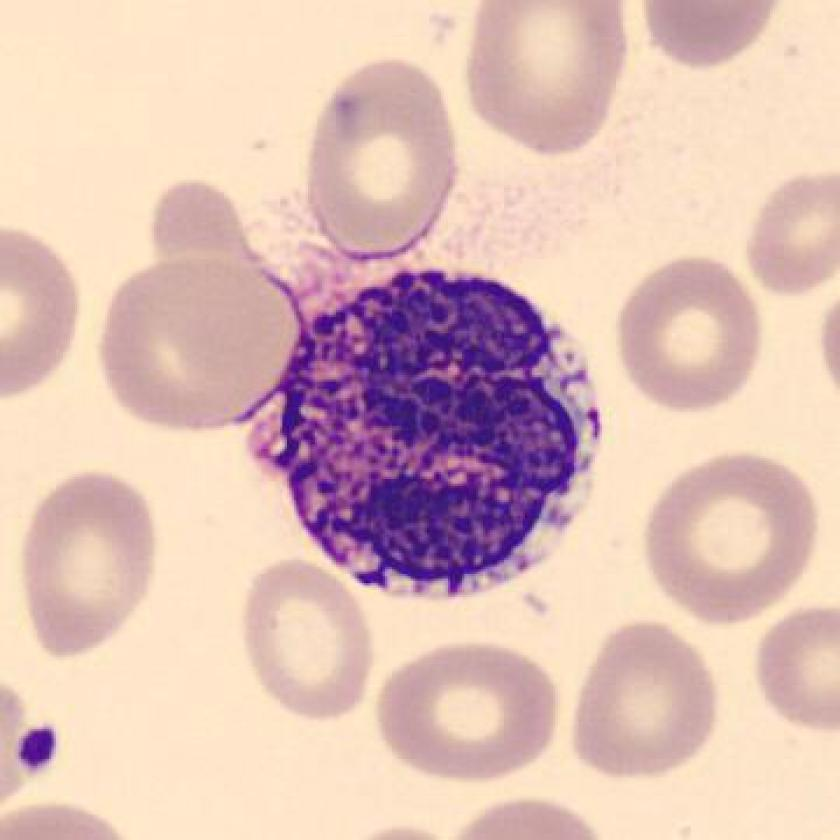basophil: (269, 267, 603, 605)
